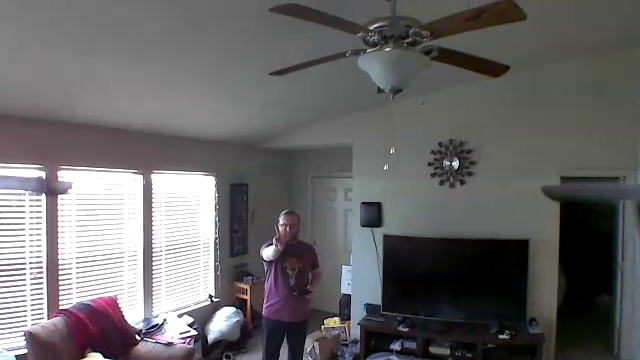peace: (266, 218, 292, 253)
